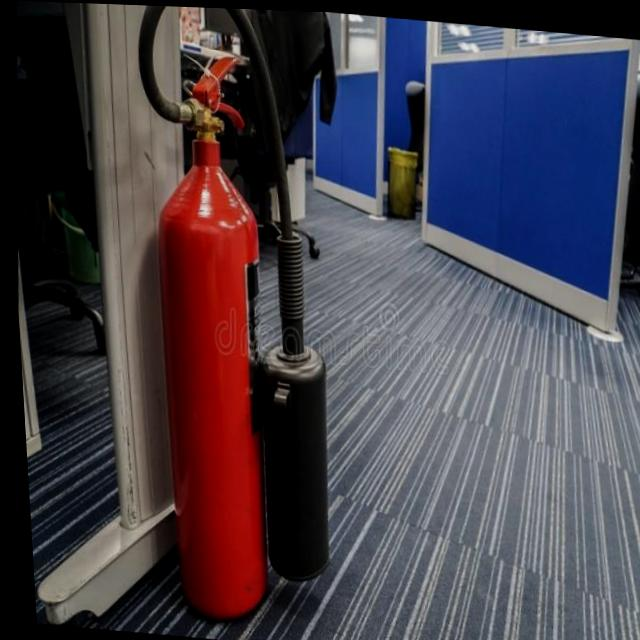FireExtinguisher: (101, 3, 358, 633)
